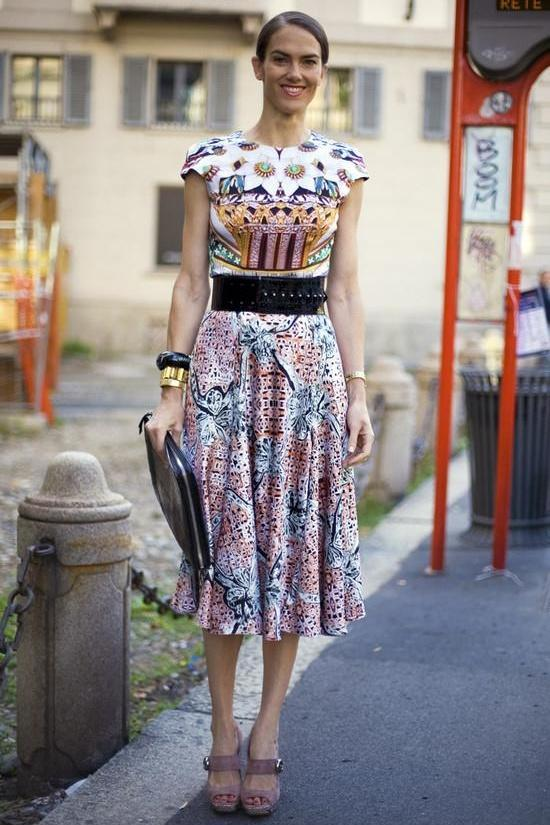Tshirt: (182, 130, 370, 279)
skirt: (172, 313, 368, 642)
